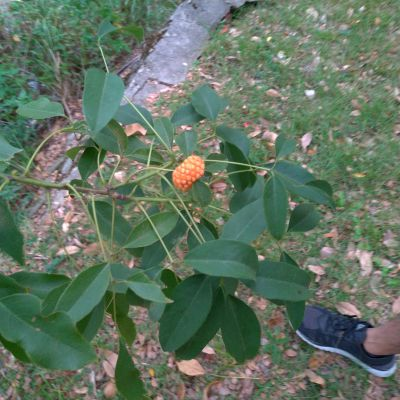eggs: (166, 152, 210, 188)
